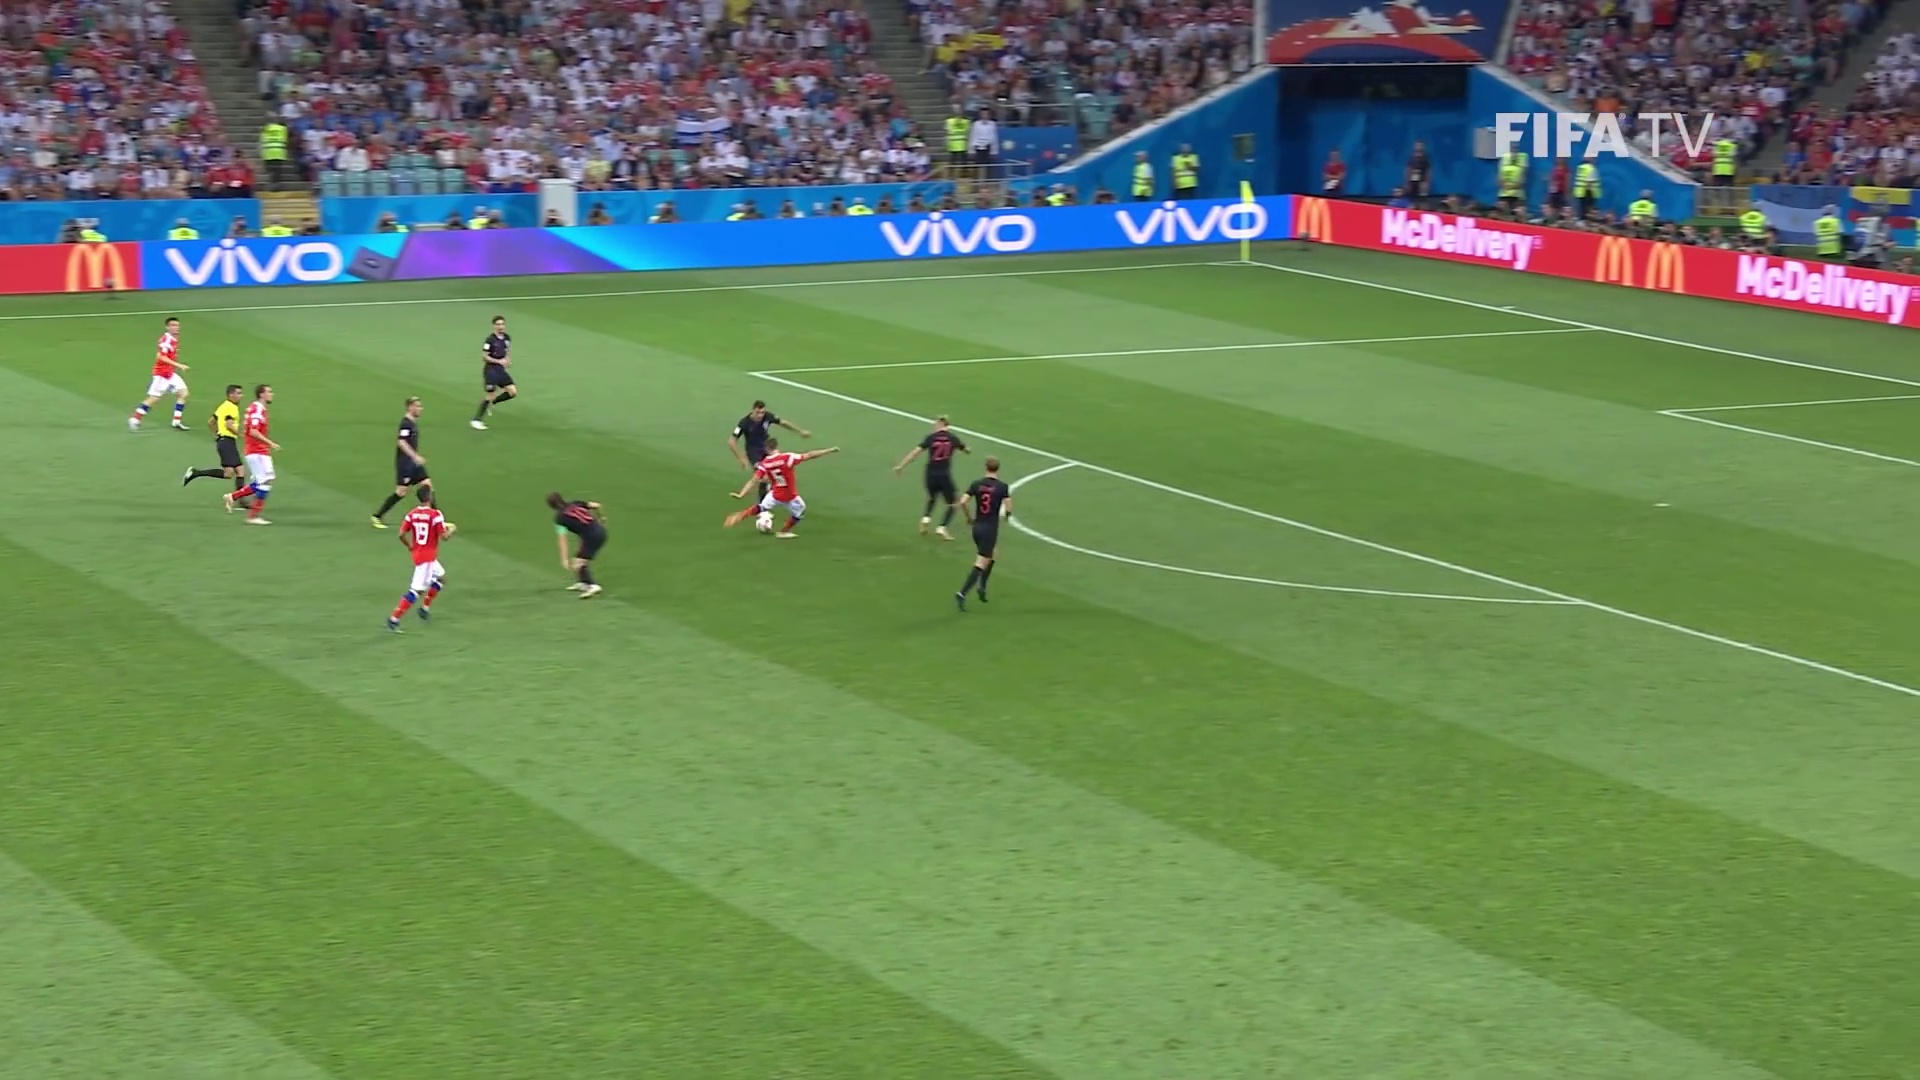ball: (757, 513, 776, 532)
person: (727, 439, 841, 545), (370, 392, 442, 531), (897, 411, 969, 542), (389, 485, 454, 629), (956, 456, 1010, 604), (128, 318, 190, 427), (231, 384, 280, 519), (549, 493, 608, 597), (731, 402, 812, 475), (471, 313, 517, 428)
